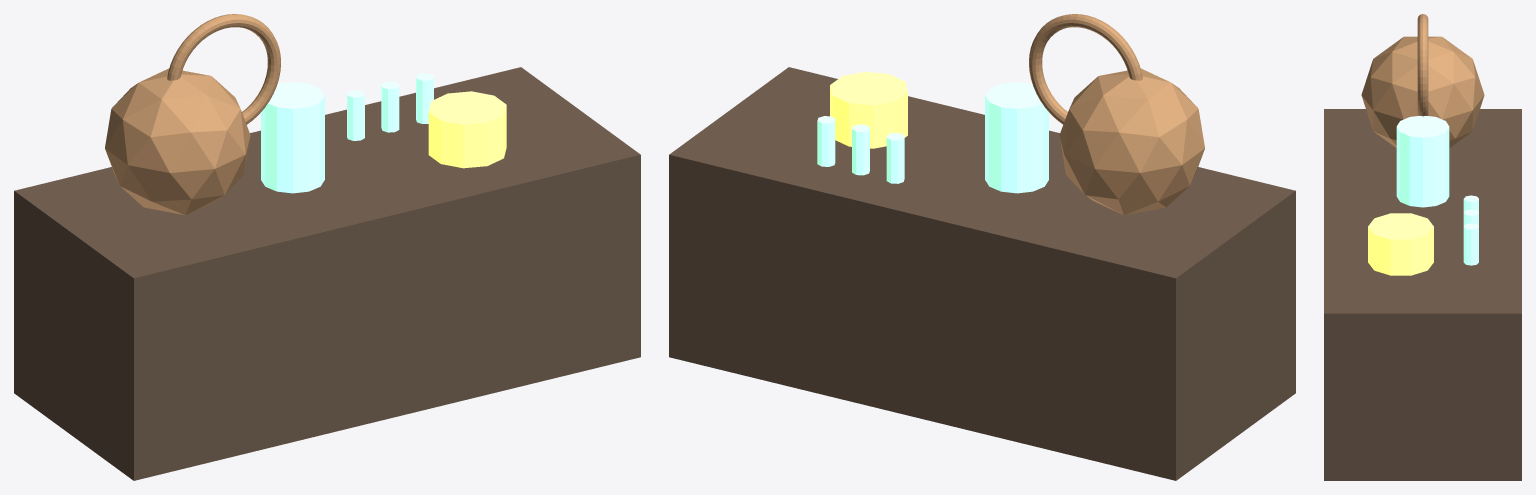
Rendered from alchemist_bench.glb.
The picture shows the model from 3 angles, left to right: view 1: azimuth 30°, elevation 25°; view 2: azimuth 150°, elevation 25°; view 3: azimuth 270°, elevation 25°; orthographic projection. The views are drawn at different scales.
Parts seen in each view (by area): view 1: Cube, Icosphere, Cylinder, VolatileSulfurCrucible, Torus, Cylinder.002, Cylinder.001, Cylinder.003; view 2: Cube, Icosphere, Cylinder, VolatileSulfurCrucible, Torus, Cylinder.003, Cylinder.001, Cylinder.002; view 3: Cube, Icosphere, Cylinder, VolatileSulfurCrucible, Torus, Cylinder.003, Cylinder.002, Cylinder.001.
Boxes of the visible parts, x1=… form: Cube: x1=14, y1=67, x2=640, y2=480; Icosphere: x1=105, y1=68, x2=250, y2=215; Cylinder: x1=261, y1=82, x2=324, y2=193; VolatileSulfurCrucible: x1=428, y1=91, x2=506, y2=168; Torus: x1=167, y1=14, x2=280, y2=124; Cylinder.002: x1=381, y1=81, x2=399, y2=132; Cylinder.001: x1=347, y1=90, x2=364, y2=140; Cylinder.003: x1=416, y1=73, x2=433, y2=123; Cube: x1=669, y1=67, x2=1295, y2=480; Icosphere: x1=1059, y1=68, x2=1204, y2=215; Cylinder: x1=985, y1=82, x2=1048, y2=193; VolatileSulfurCrucible: x1=830, y1=72, x2=907, y2=148; Torus: x1=1029, y1=14, x2=1142, y2=124; Cylinder.003: x1=817, y1=116, x2=835, y2=166; Cylinder.001: x1=886, y1=133, x2=904, y2=183; Cylinder.002: x1=852, y1=124, x2=869, y2=175; Cube: x1=1324, y1=109, x2=1521, y2=480; Icosphere: x1=1361, y1=36, x2=1484, y2=147; Cylinder: x1=1396, y1=116, x2=1449, y2=207; VolatileSulfurCrucible: x1=1368, y1=213, x2=1433, y2=275; Torus: x1=1417, y1=14, x2=1428, y2=116; Cylinder.003: x1=1463, y1=223, x2=1478, y2=265; Cylinder.002: x1=1463, y1=209, x2=1478, y2=225; Cylinder.001: x1=1463, y1=195, x2=1478, y2=211.
Size of the model in its own units: 2.2 by 1.6 by 0.9.
